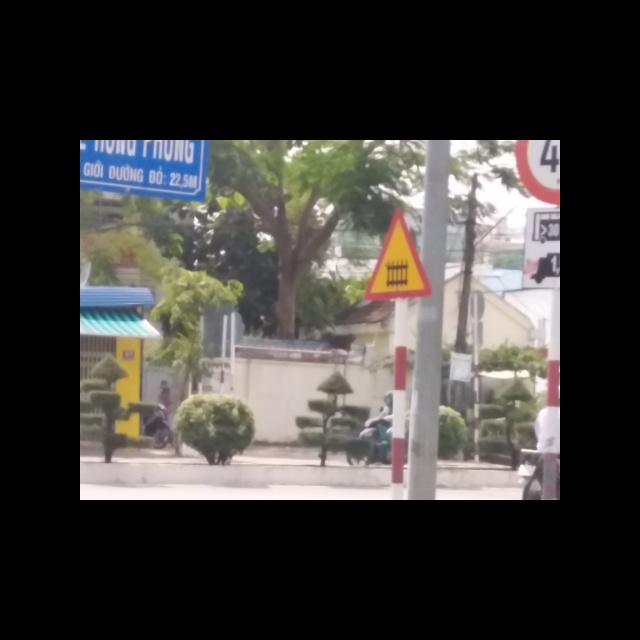Giao nhau với đường sắt có rào chắn: (360, 210, 431, 304)
